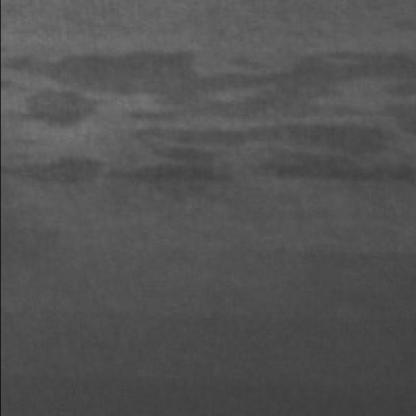inclusion: (4, 44, 410, 191)
